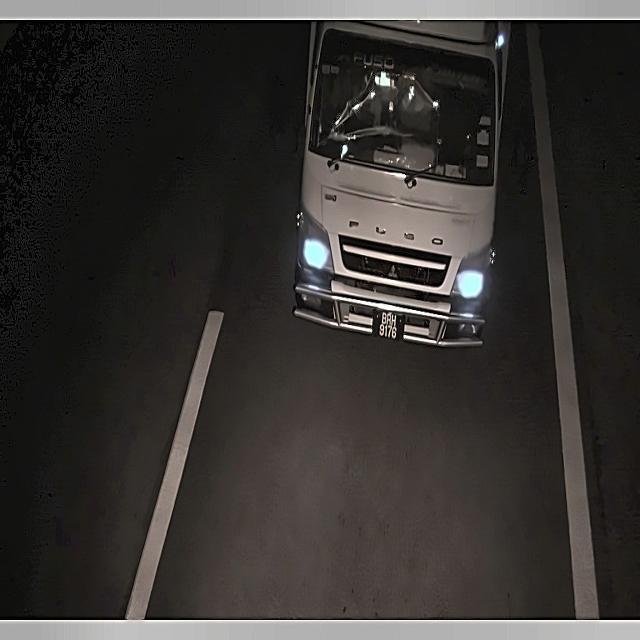car: (373, 297, 405, 347)
